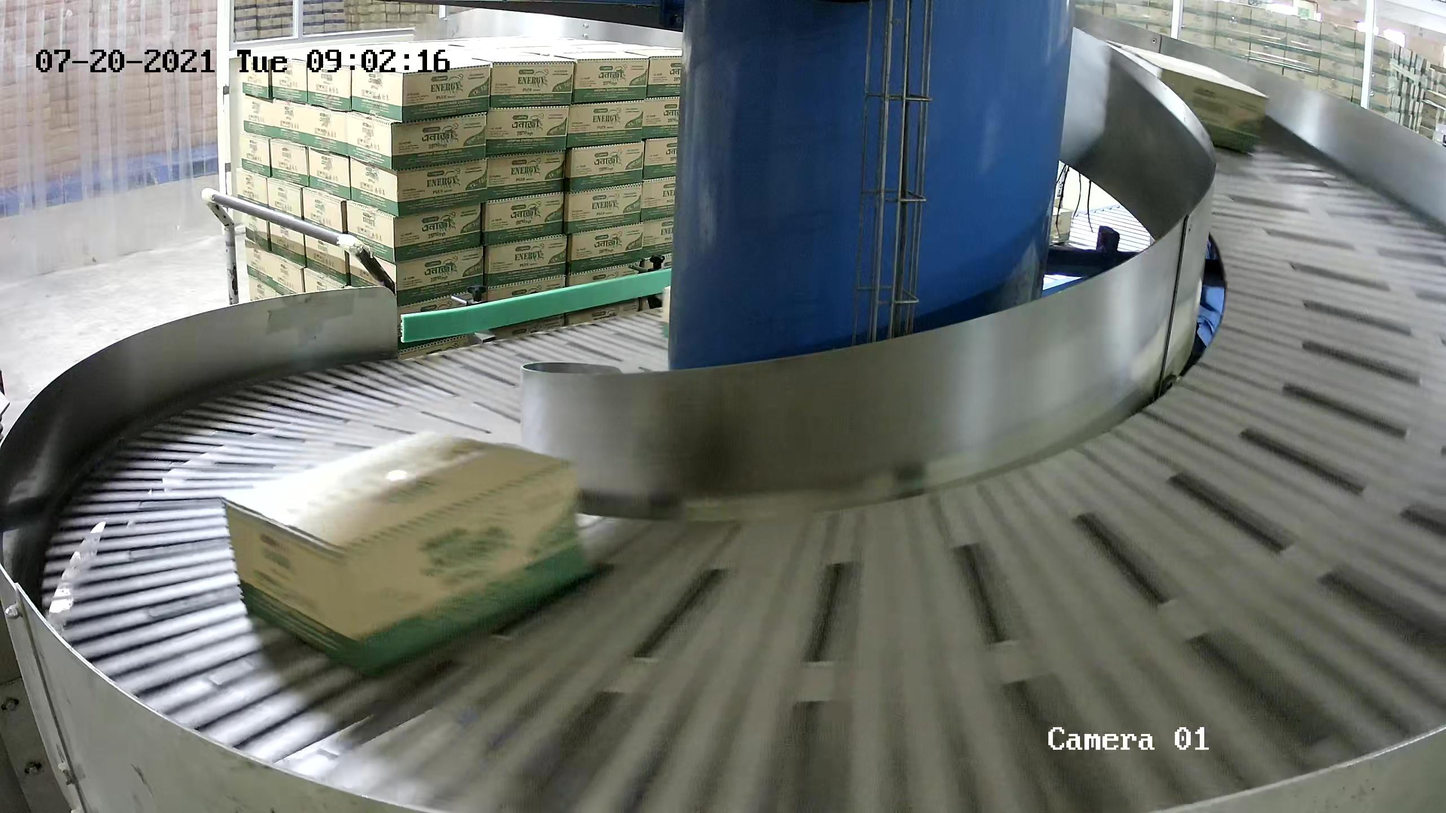Box: (219, 424, 594, 677), (1103, 37, 1269, 156)
